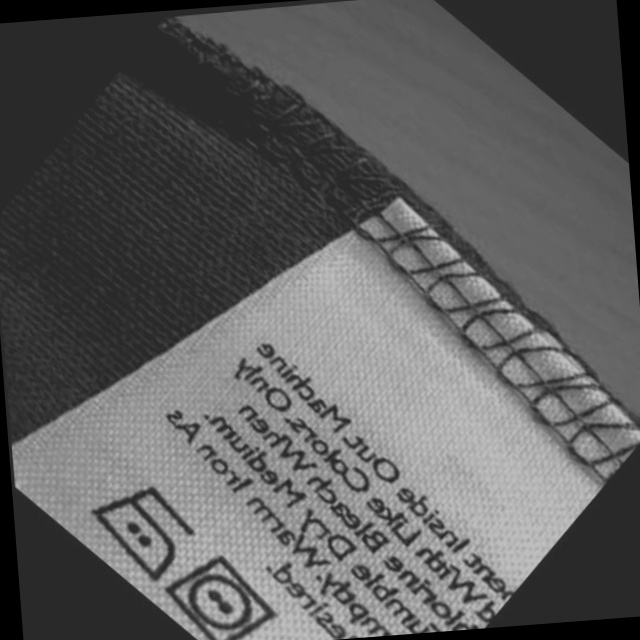iron_medium: (83, 482, 196, 583)
tumble_dry_medium: (160, 554, 276, 640)
